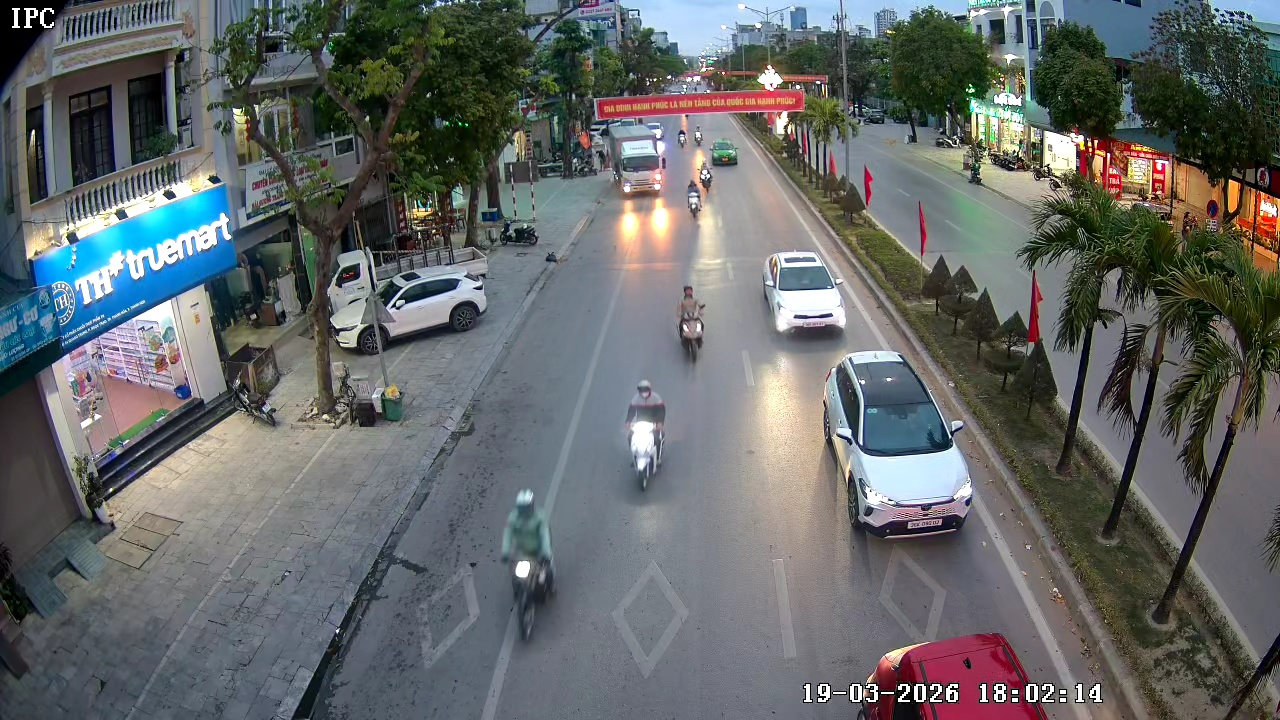car: (821, 348, 975, 536), (336, 264, 489, 353), (761, 248, 848, 338), (708, 138, 739, 167)
motorbike: (499, 487, 560, 641), (621, 377, 672, 493), (674, 281, 709, 364), (686, 177, 703, 216), (678, 118, 690, 147), (691, 118, 703, 147)
truck: (612, 116, 668, 196)
